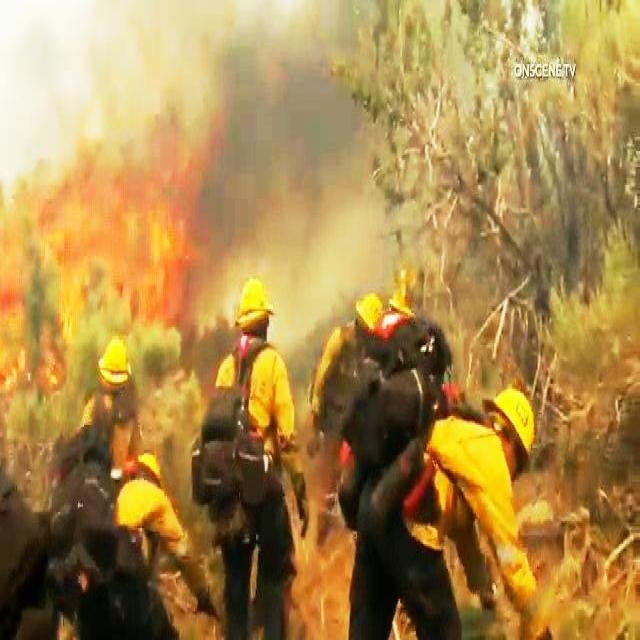Fire: (0, 174, 202, 331)
Smoke: (202, 22, 342, 188)
